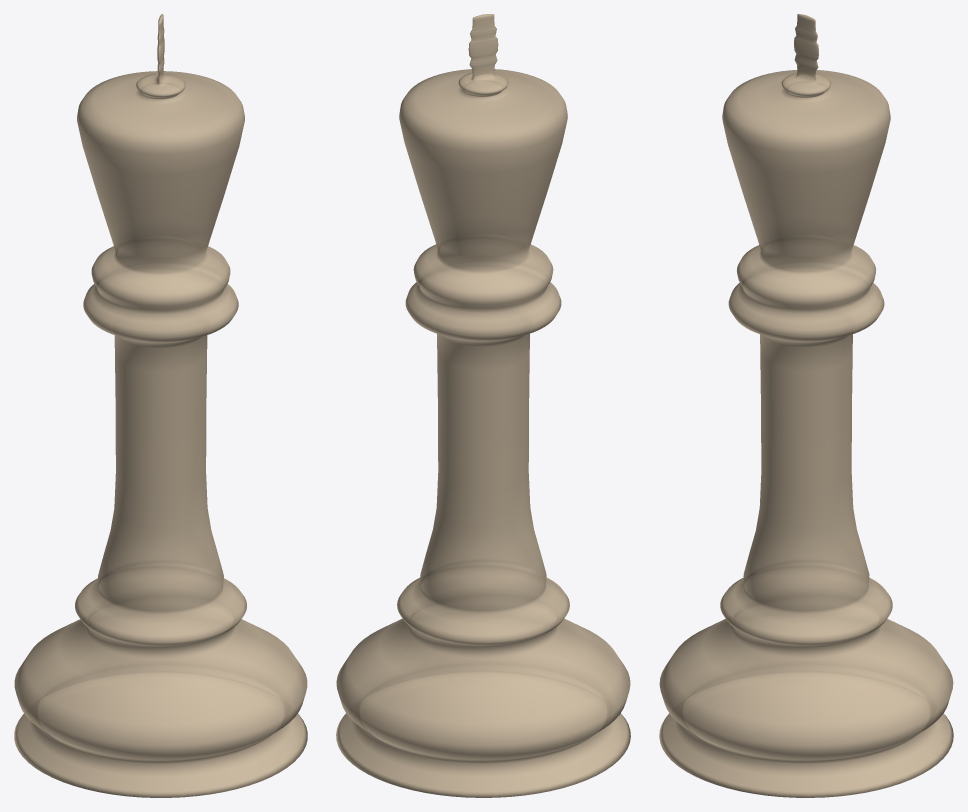
File: white-king.obj
3 renders of one model, left to right at view 1: azimuth 30°, elevation 25°; view 2: azimuth 150°, elevation 25°; view 3: azimuth 270°, elevation 25°, orthographic.
Visible parts, largest first — view 1: King.001_Circle.016; view 2: King.001_Circle.016; view 3: King.001_Circle.016.
Part boxes in pixels (bbox=[...]): King.001_Circle.016: bbox=[14, 14, 307, 797]; King.001_Circle.016: bbox=[336, 14, 630, 797]; King.001_Circle.016: bbox=[659, 14, 953, 797].
Size of the model in its own units: 1.35 by 3.65 by 1.35.
